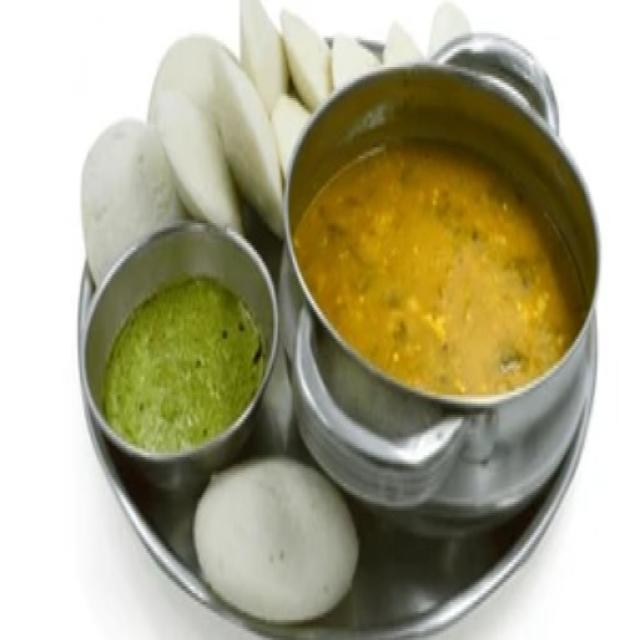GREEN CHUTNEY: (107, 282, 264, 457)
IDLI: (80, 0, 475, 289), (194, 459, 359, 624)
SAMBAR: (292, 140, 589, 398)
